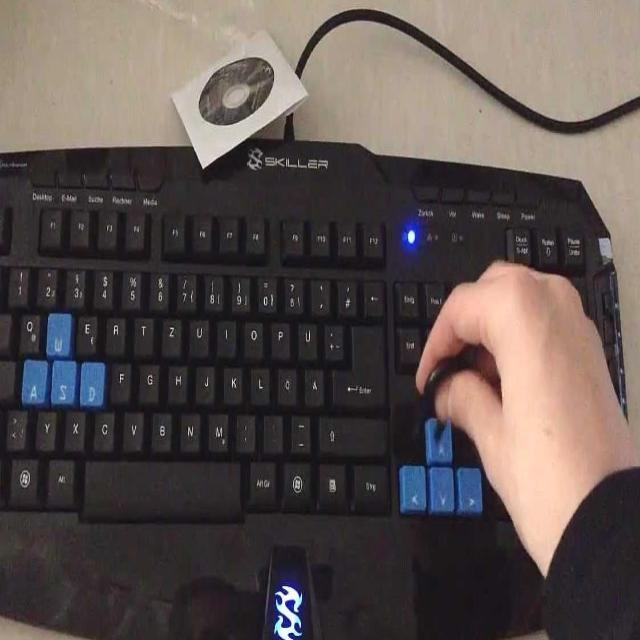0: (254, 269, 275, 310)
1: (6, 261, 27, 303)
2: (35, 261, 57, 304)
3: (64, 263, 85, 305)
4: (92, 263, 113, 306)
5: (119, 265, 141, 307)
6: (147, 266, 168, 308)
7: (173, 266, 195, 309)
8: (201, 267, 222, 310)
9: (228, 269, 249, 310)
a: (22, 359, 47, 402)
accent: (309, 273, 329, 311)
ae: (302, 363, 322, 403)
alt-left: (44, 453, 74, 502)
altgr-right: (245, 455, 274, 504)
b: (149, 406, 171, 448)
c: (91, 406, 114, 448)
caret: (0, 259, 11, 301)
comma: (233, 408, 253, 449)
d: (79, 359, 105, 405)
del: (363, 274, 384, 314)
e: (74, 309, 96, 350)
enter: (331, 317, 384, 410)
f: (111, 360, 132, 401)
g: (137, 359, 158, 399)
h: (165, 360, 186, 399)
hash: (337, 276, 358, 316)
i: (214, 314, 234, 351)
j: (193, 360, 213, 400)
k: (221, 361, 241, 401)
keyboard: (0, 148, 630, 555)
l: (248, 362, 268, 401)
less: (3, 404, 24, 446)
m: (205, 406, 226, 449)
minus: (289, 408, 309, 450)
n: (177, 406, 199, 448)
o: (242, 316, 263, 354)
oe: (274, 363, 295, 401)
p: (268, 316, 288, 354)
plus: (321, 317, 342, 358)
point: (261, 409, 281, 449)
q: (17, 308, 39, 348)
r: (102, 311, 124, 351)
s: (51, 358, 76, 402)
shift-left: (0, 404, 15, 446)
shift-lock: (0, 356, 22, 398)
shift-right: (316, 411, 384, 452)
space: (81, 453, 240, 519)
ss: (281, 271, 301, 311)
strg-left: (0, 452, 19, 503)
strg-right: (349, 459, 387, 508)
t: (131, 311, 152, 351)
tab: (0, 306, 18, 348)
u: (187, 314, 208, 353)
ue: (296, 316, 316, 357)
v: (120, 405, 142, 447)
w: (45, 312, 71, 356)
x: (62, 404, 84, 447)
y: (34, 404, 55, 447)
z: (159, 313, 180, 352)
